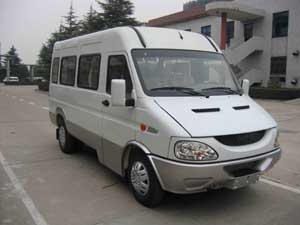midcar: (41, 24, 281, 206)
